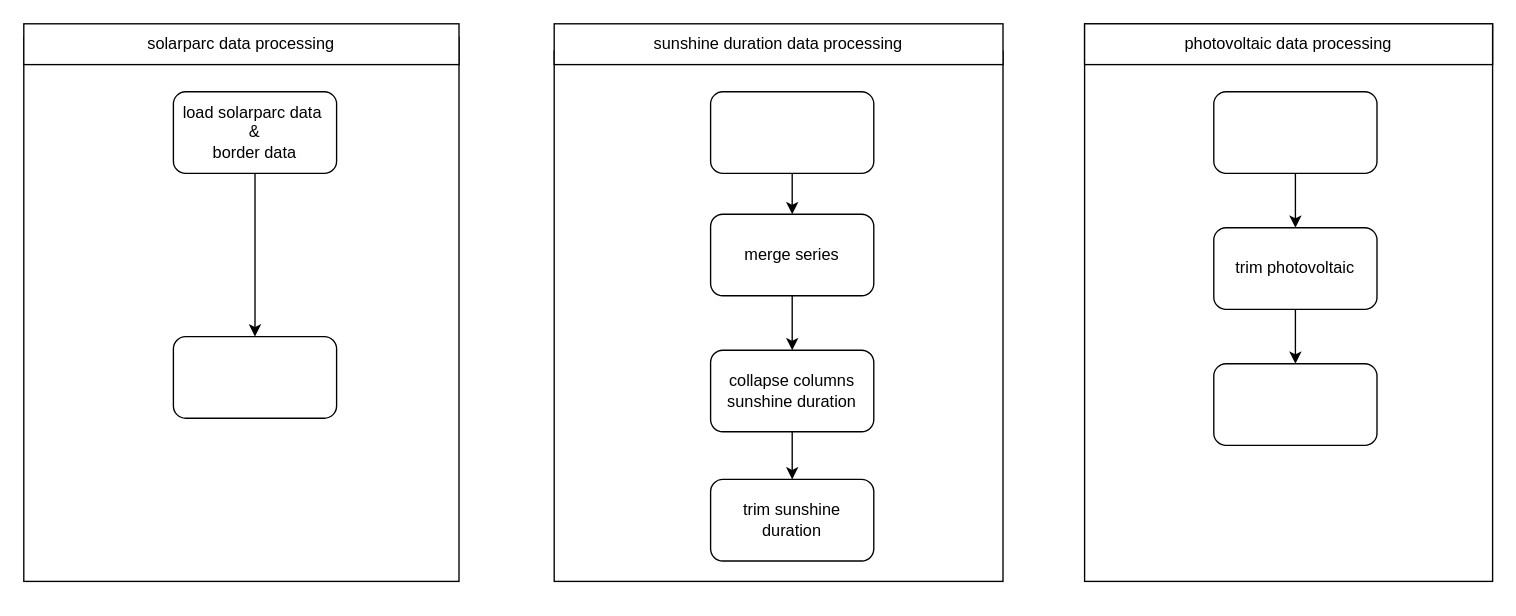
This 1516x616 diagram has some shape labels left out. The shapes that lost their labels are listed below. From the top down, each one's centre as x and y in pixels, then its label:
(791,131): load sunshine duration data
(1294,131): load and clean photovoltaic data
(254,376): calculate area
(1294,403): collaps columns photovoltaic
